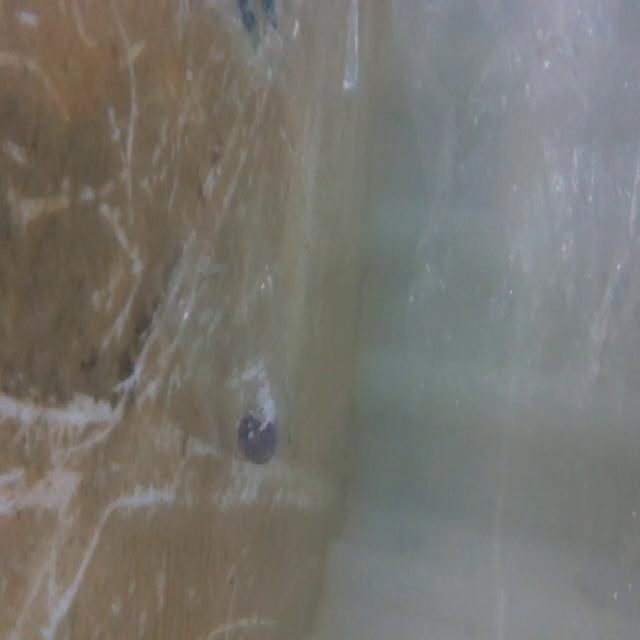plastic bags: (402, 0, 640, 458), (172, 0, 376, 113)
plastic bottle: (164, 216, 296, 478)
